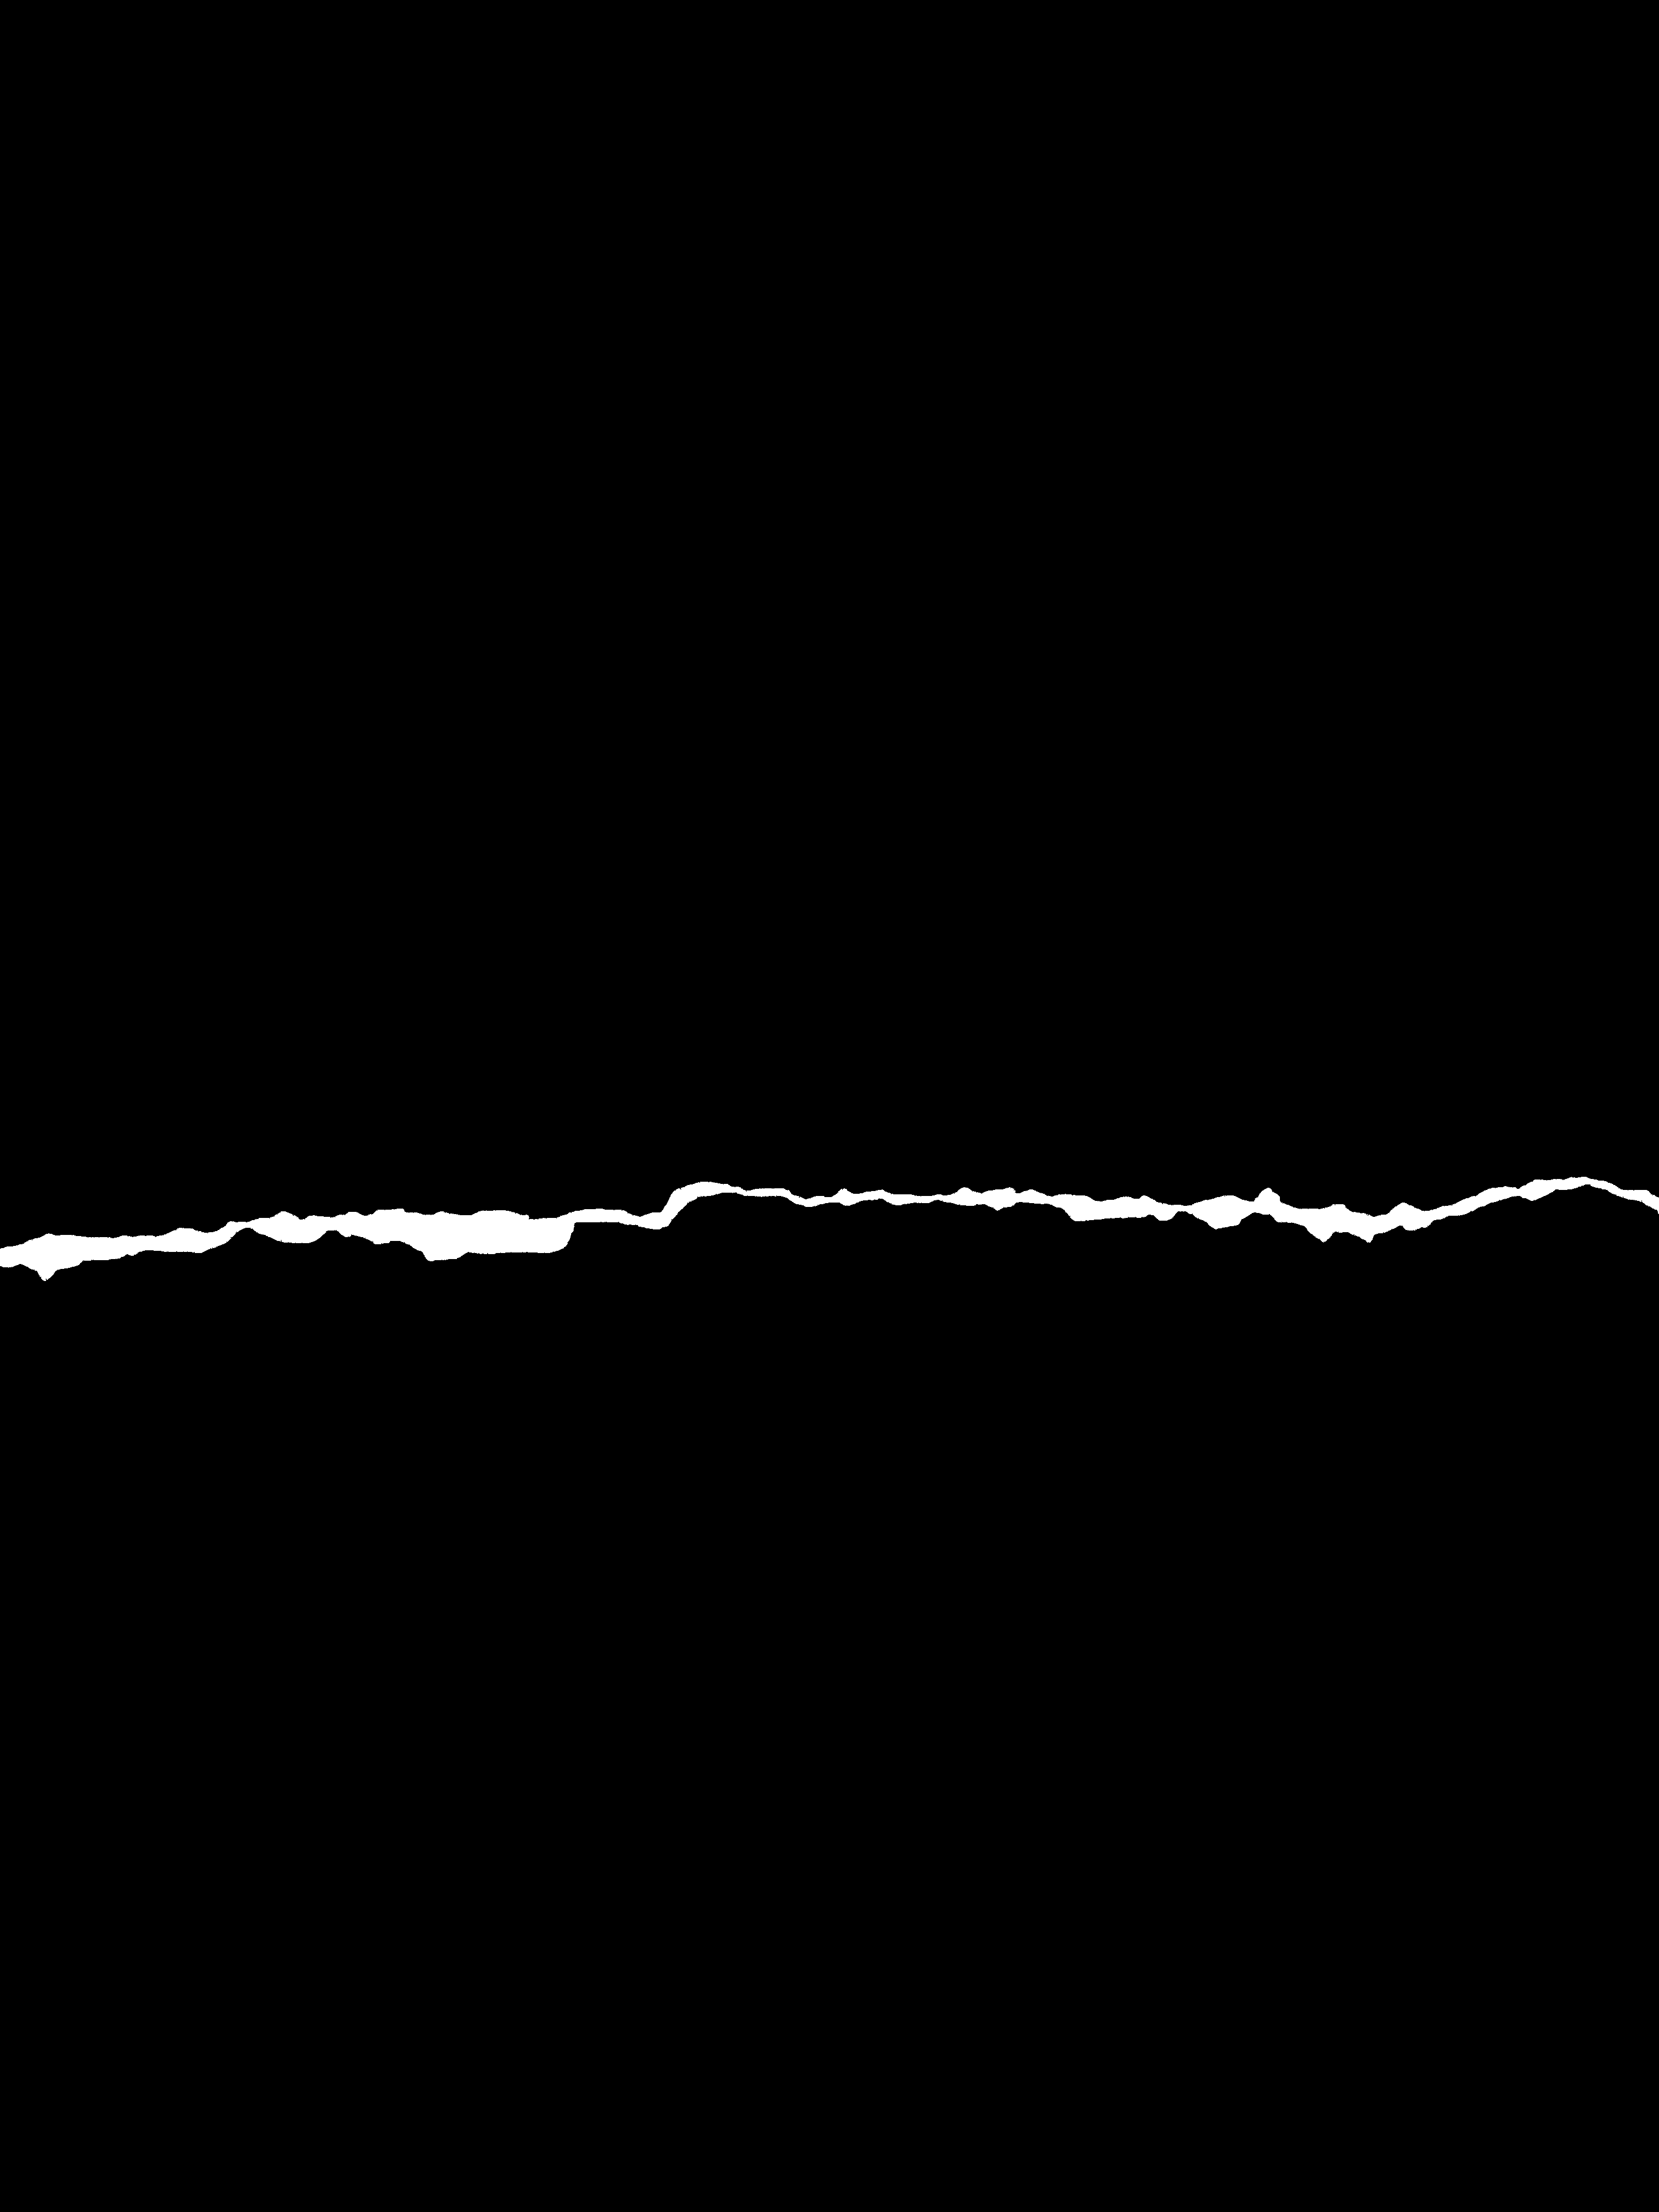Crack: (5, 1148, 1659, 1292)
